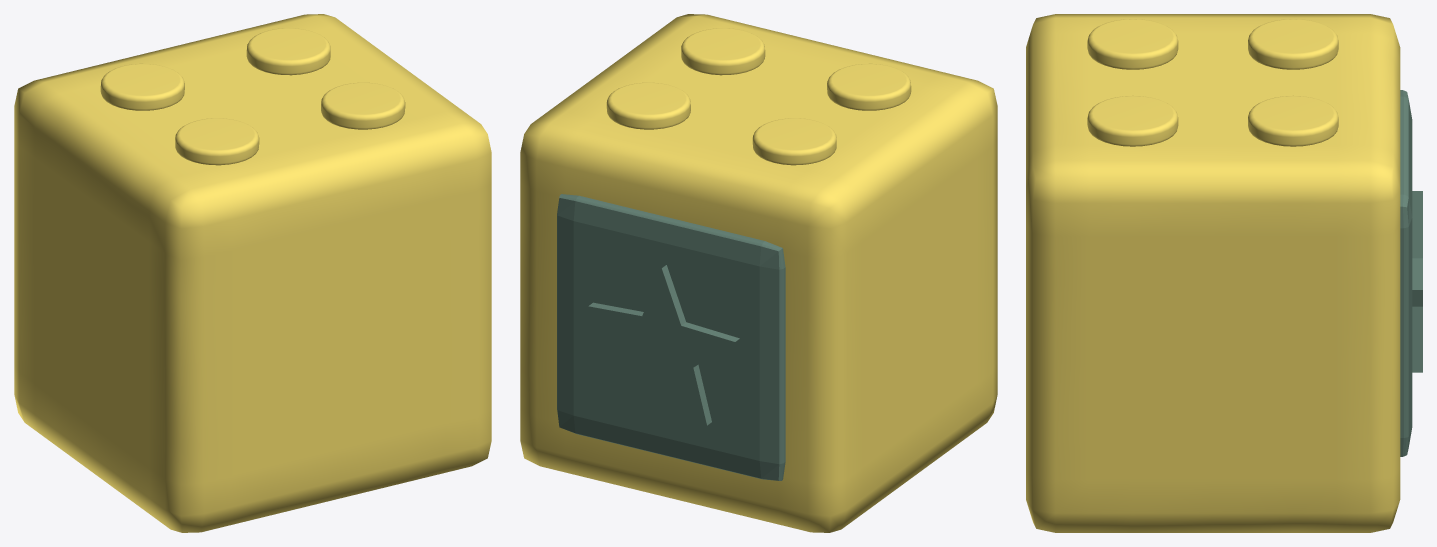
The model's file is BigBadVacuumBlock.glb.
3 renders of one model, left to right at view 1: azimuth 30°, elevation 25°; view 2: azimuth 150°, elevation 25°; view 3: azimuth 270°, elevation 25°, orthographic. The views are drawn at different scales.
Parts seen in each view (by area): view 1: Body; view 2: Body, Face; view 3: Body, Face.
Boxes of the visible parts, bbox=[...] form: Body: bbox=[14, 14, 491, 532]; Body: bbox=[520, 14, 997, 532]; Face: bbox=[557, 194, 785, 480]; Body: bbox=[1026, 14, 1400, 532]; Face: bbox=[1400, 90, 1422, 456].
Bounding box in the file's own units: 15 × 15.8 × 14.85.
